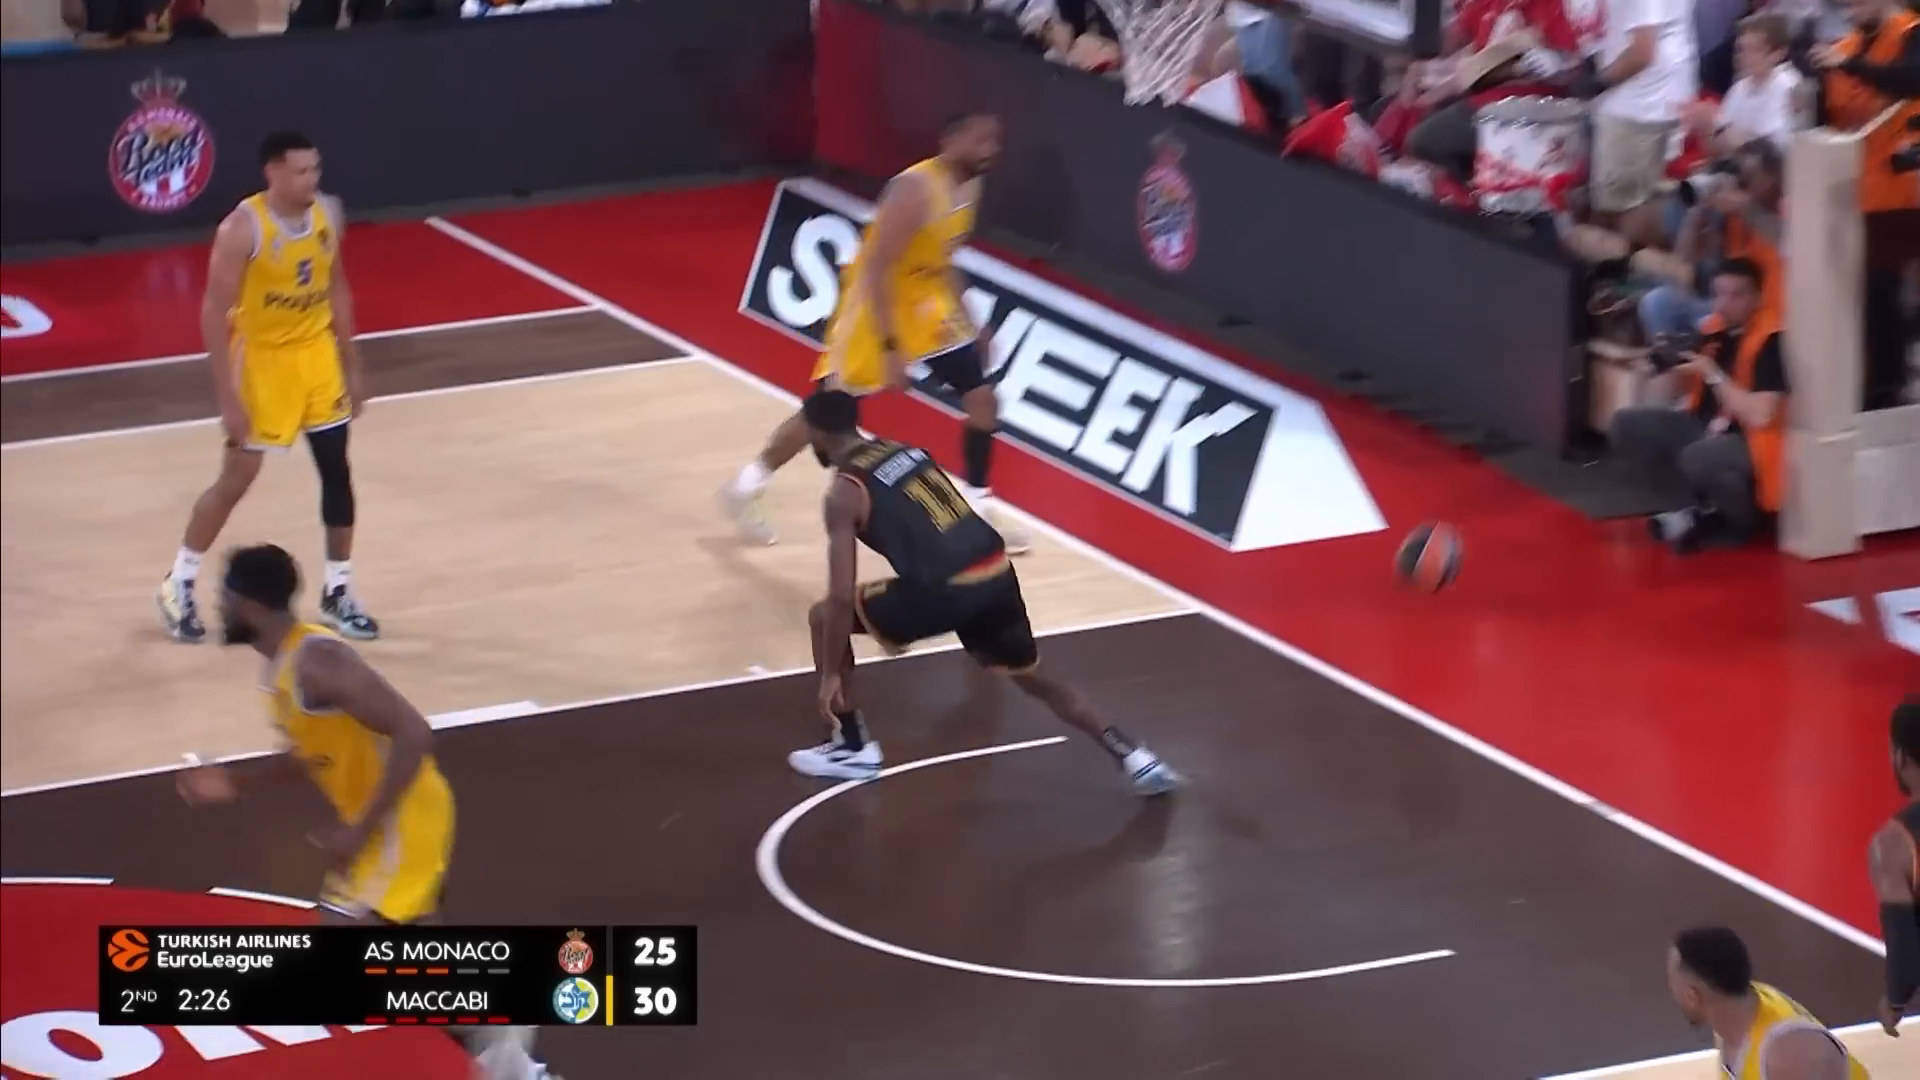ball: (1389, 514, 1480, 596)
net: (1093, 1, 1226, 107)
